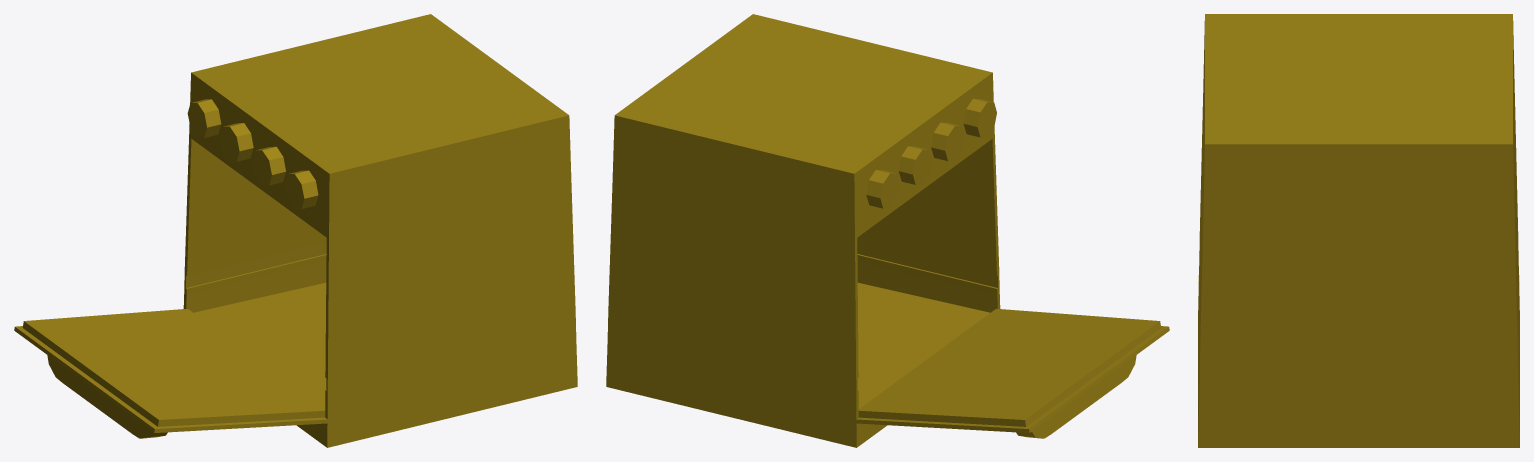
Rendered from piekarnik.fbx.
3 views of the same model, side by side, from view 1: azimuth 30°, elevation 25°; view 2: azimuth 150°, elevation 25°; view 3: azimuth 270°, elevation 25° (orthographic). The views are drawn at different scales.
Parts seen in each view (by area): view 1: OvenBody, OvenDoor; view 2: OvenBody, OvenDoor; view 3: OvenBody.
Boxes of the visible parts, x1=… form: OvenBody: x1=183, y1=14, x2=577, y2=447; OvenDoor: x1=14, y1=308, x2=328, y2=438; OvenBody: x1=606, y1=14, x2=1000, y2=447; OvenDoor: x1=855, y1=308, x2=1169, y2=438; OvenBody: x1=1198, y1=14, x2=1519, y2=447.
Size of the model in its own units: 69.2 by 42.46 by 41.15.
